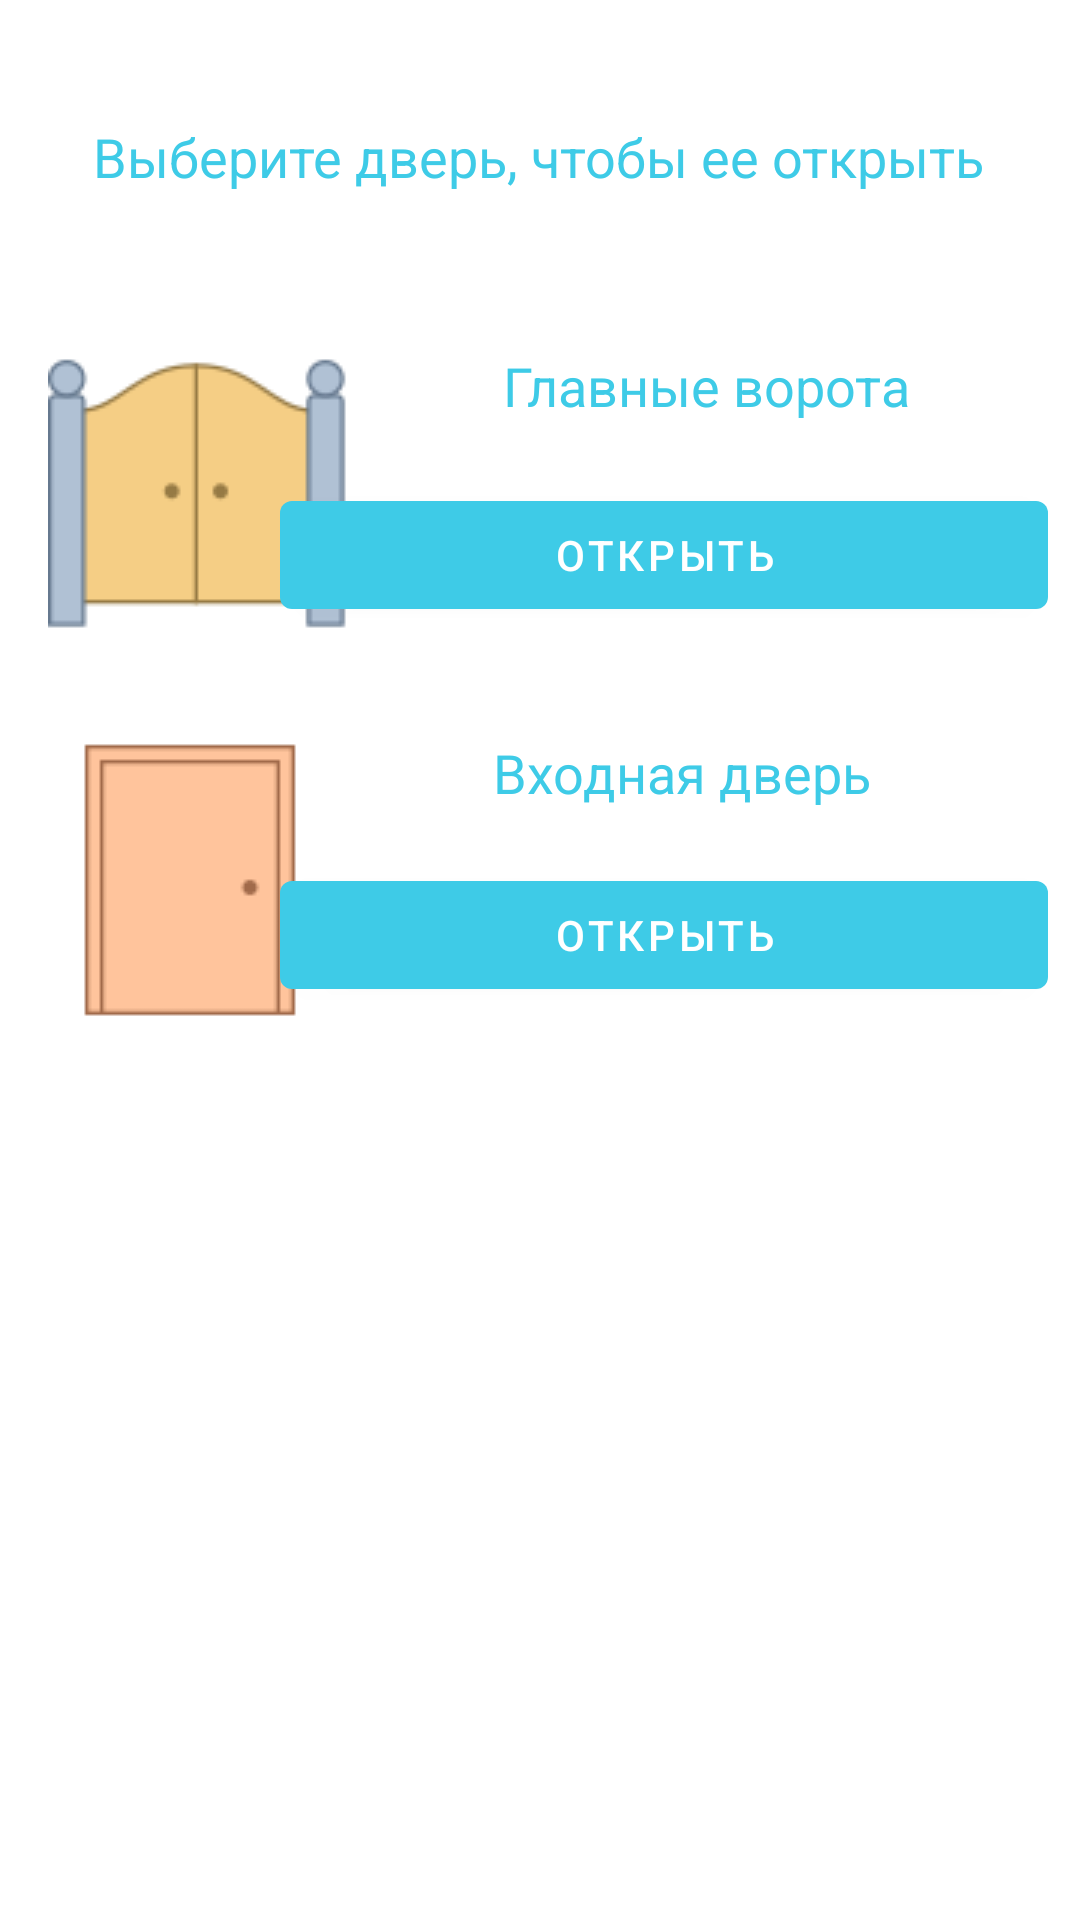

Icon click points for this 1080 × 1920 phone screenshot, format point (x, y):
door closed: point (212, 880)
gate closed: point (198, 493)
